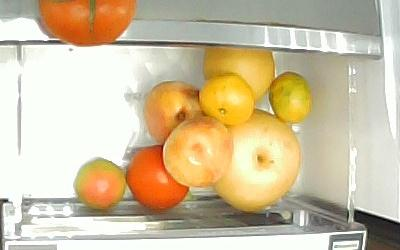peach: (162, 116, 234, 189), (142, 80, 207, 145)
pear: (209, 105, 301, 211), (201, 46, 274, 103)
tangerine: (197, 72, 255, 126), (267, 70, 312, 124)
tomato: (125, 143, 192, 212), (73, 157, 125, 211)
